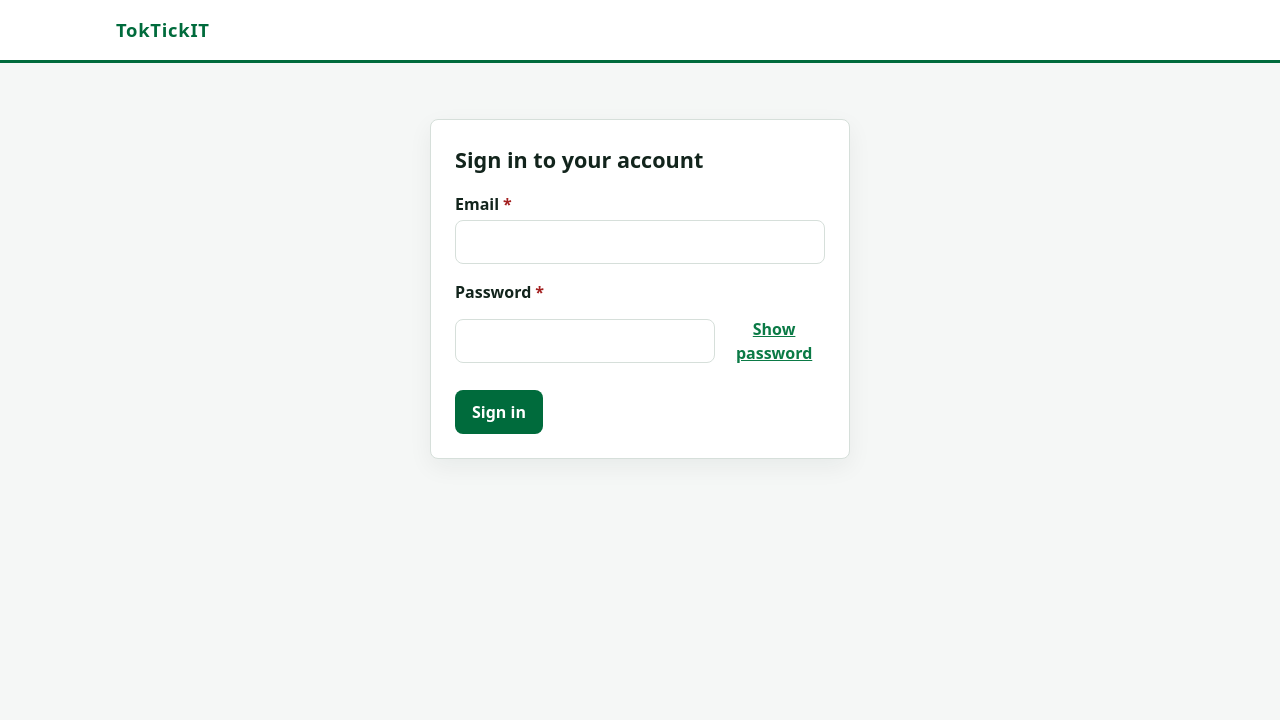
Test: Login — validation › names each empty field beneath it and sends no request
The width and height of the screenshot is (1280, 720).
expect the heading "Sign in to your account" is shown: met, box [455,145,703,174]
Click the button "Sign in" at (499, 412), box [455,390,543,434]
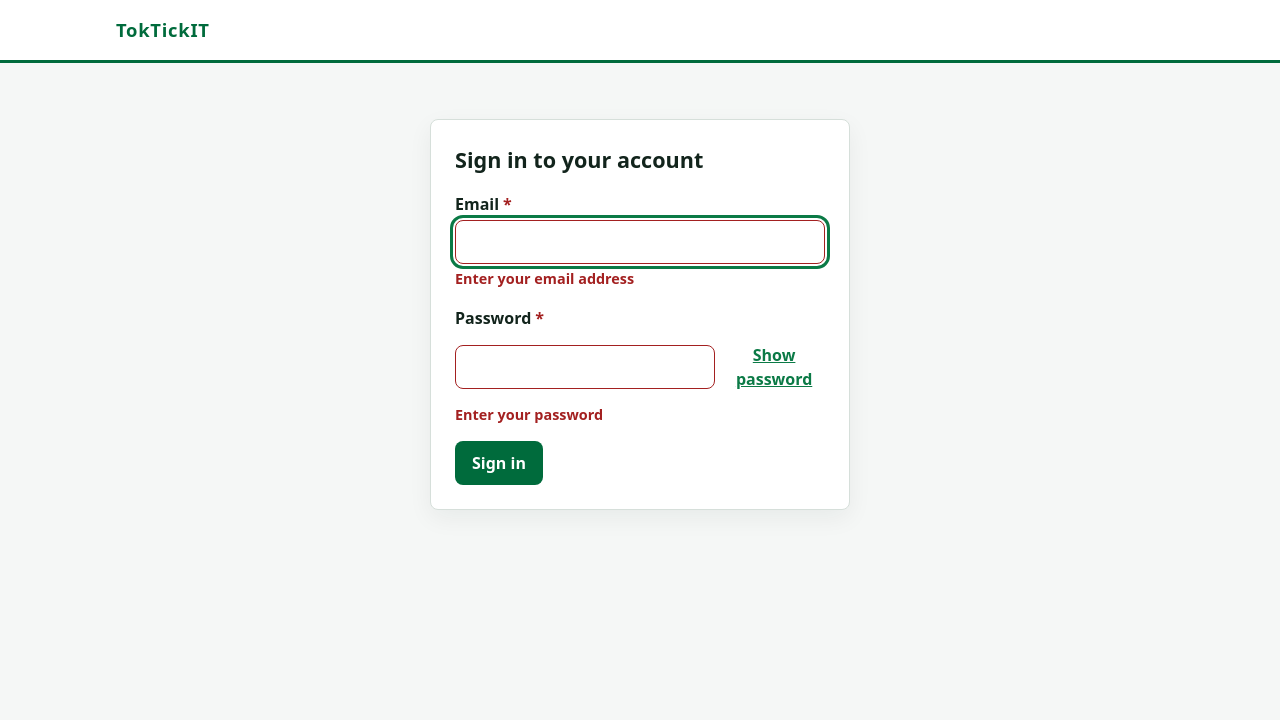
expect the text "Enter your email address" is shown: met, box [455,269,634,288]
expect the text "Enter your password" is shown: met, box [455,405,603,424]
